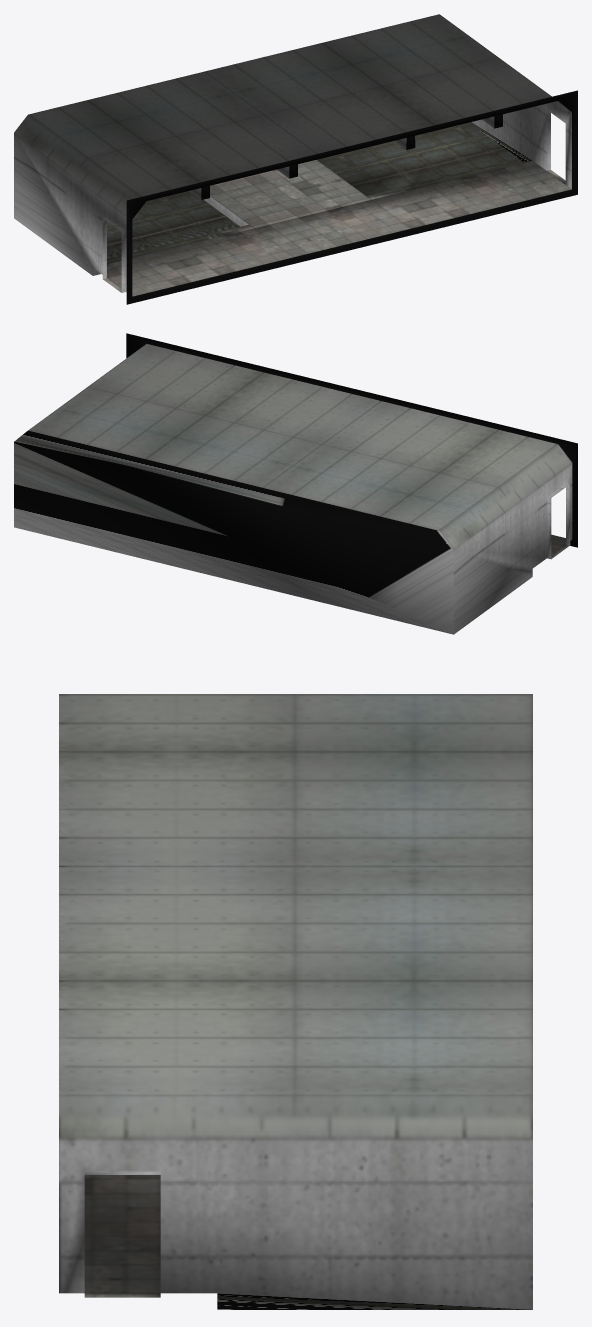
File: Generator.fbx
3 views of the same model, one above another, from view 1: azimuth 30°, elevation 25°; view 2: azimuth 150°, elevation 25°; view 3: azimuth 270°, elevation 25° (orthographic). The views are drawn at different scales.
Parts seen in each view (by area): view 1: Генератор; view 2: Генератор; view 3: Генератор.
Part boxes in pixels (bbox=[...]): Генератор: bbox=[14, 14, 577, 304]; Генератор: bbox=[14, 333, 577, 634]; Генератор: bbox=[59, 694, 532, 1309].
Size of the model in its own units: 1540 by 345 by 700.
